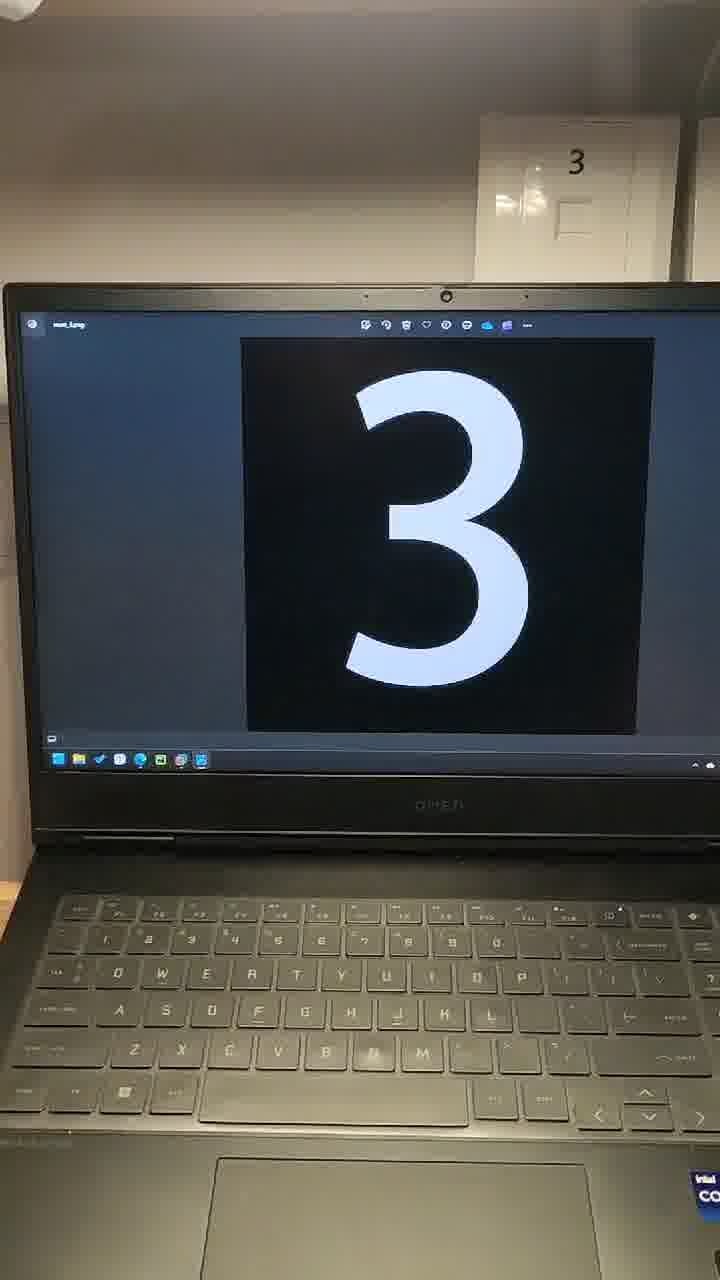three: (341, 334, 583, 783)
